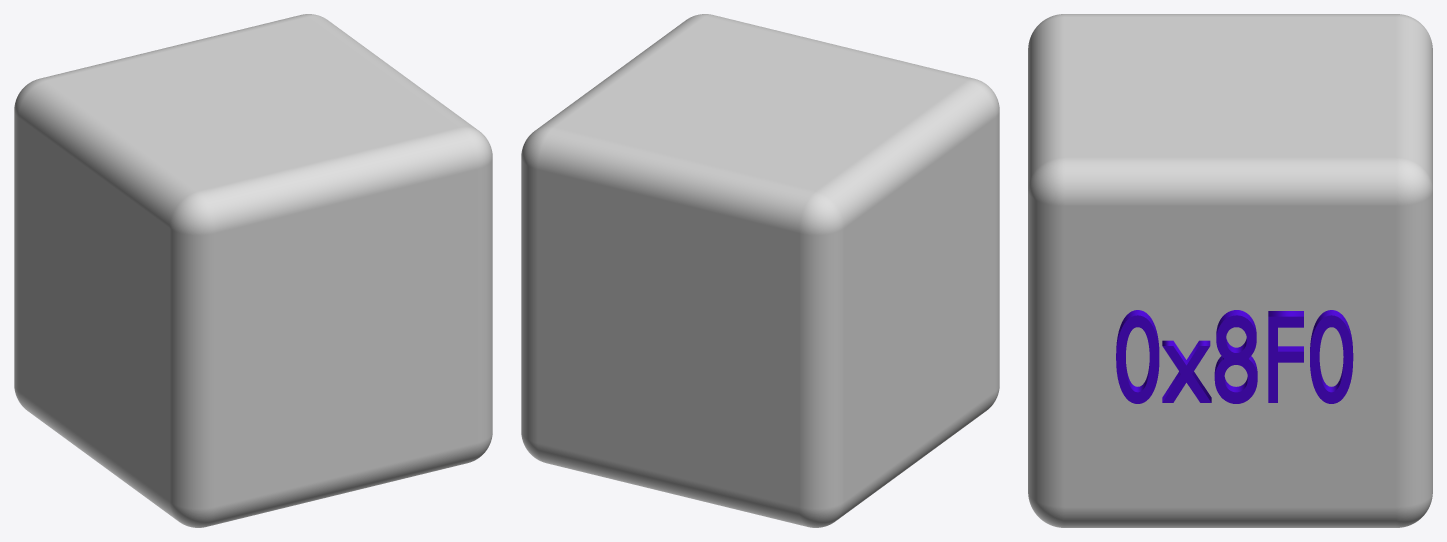
Rendered from Instr34.fbx.
The picture shows the model from 3 angles, left to right: view 1: azimuth 30°, elevation 25°; view 2: azimuth 150°, elevation 25°; view 3: azimuth 270°, elevation 25°; orthographic projection. The views are drawn at different scales.
Visible parts, largest first — view 1: Cube; view 2: Cube; view 3: Cube, Text.
Boxes of the visible parts, bbox=[...] form: Cube: bbox=[14, 14, 492, 527]; Cube: bbox=[521, 14, 999, 527]; Cube: bbox=[1028, 14, 1432, 527]; Text: bbox=[1116, 310, 1353, 403].
Size of the model in its own units: 69.29 by 67.15 by 67.15.
